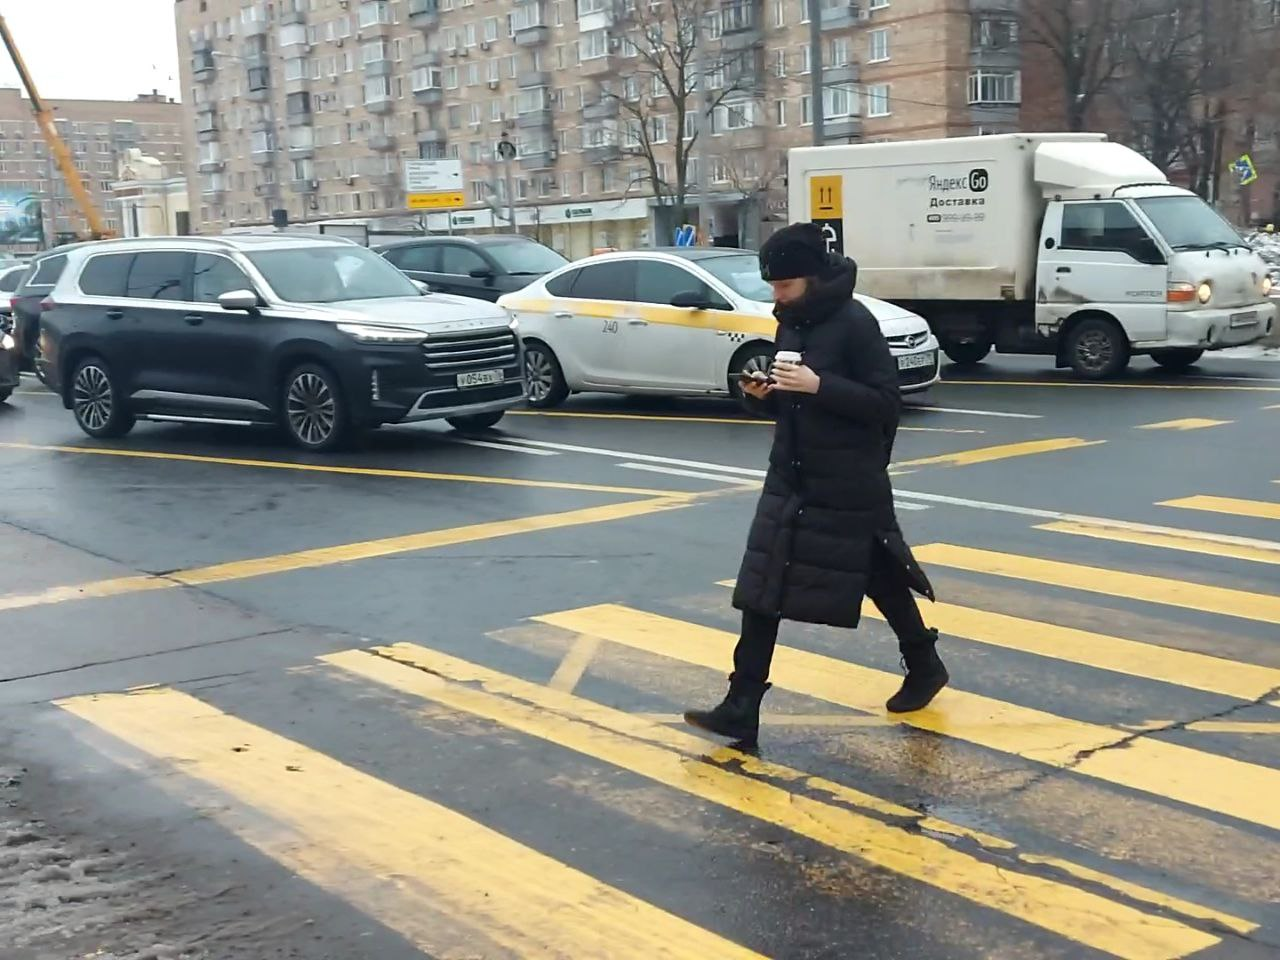sombie: (675, 209, 982, 769)
